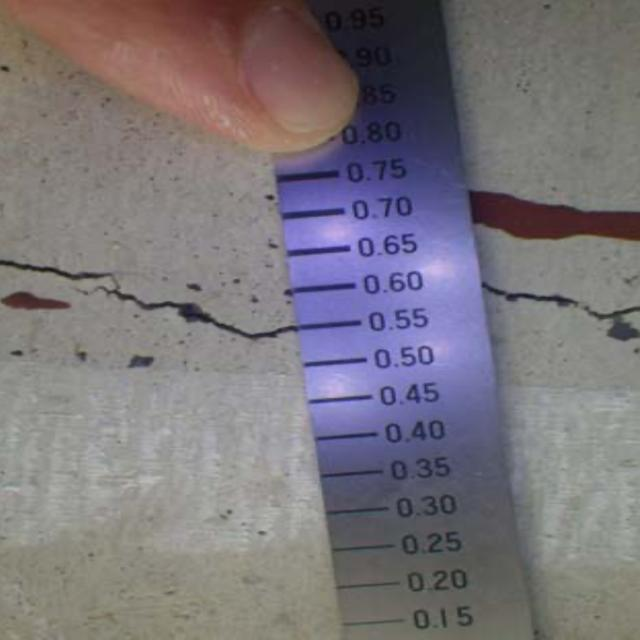crack: (1, 241, 296, 373), (489, 254, 634, 357)
